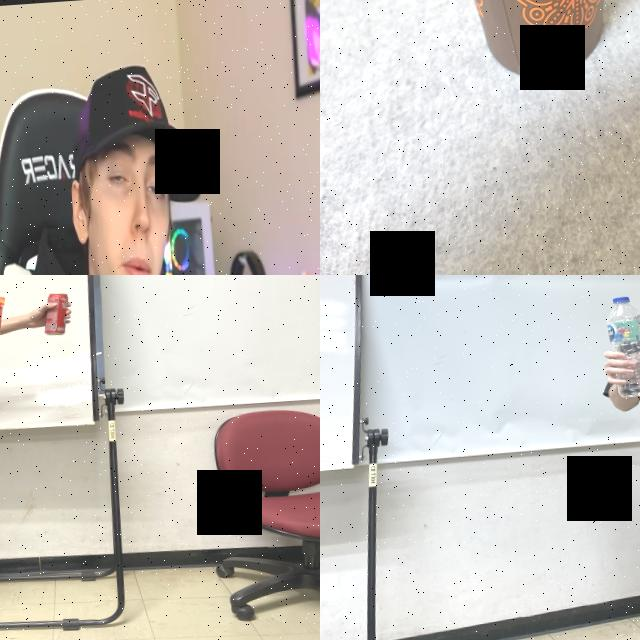bottle: (603, 294, 640, 401)
can: (40, 289, 72, 338)
cup: (404, 0, 640, 90)
